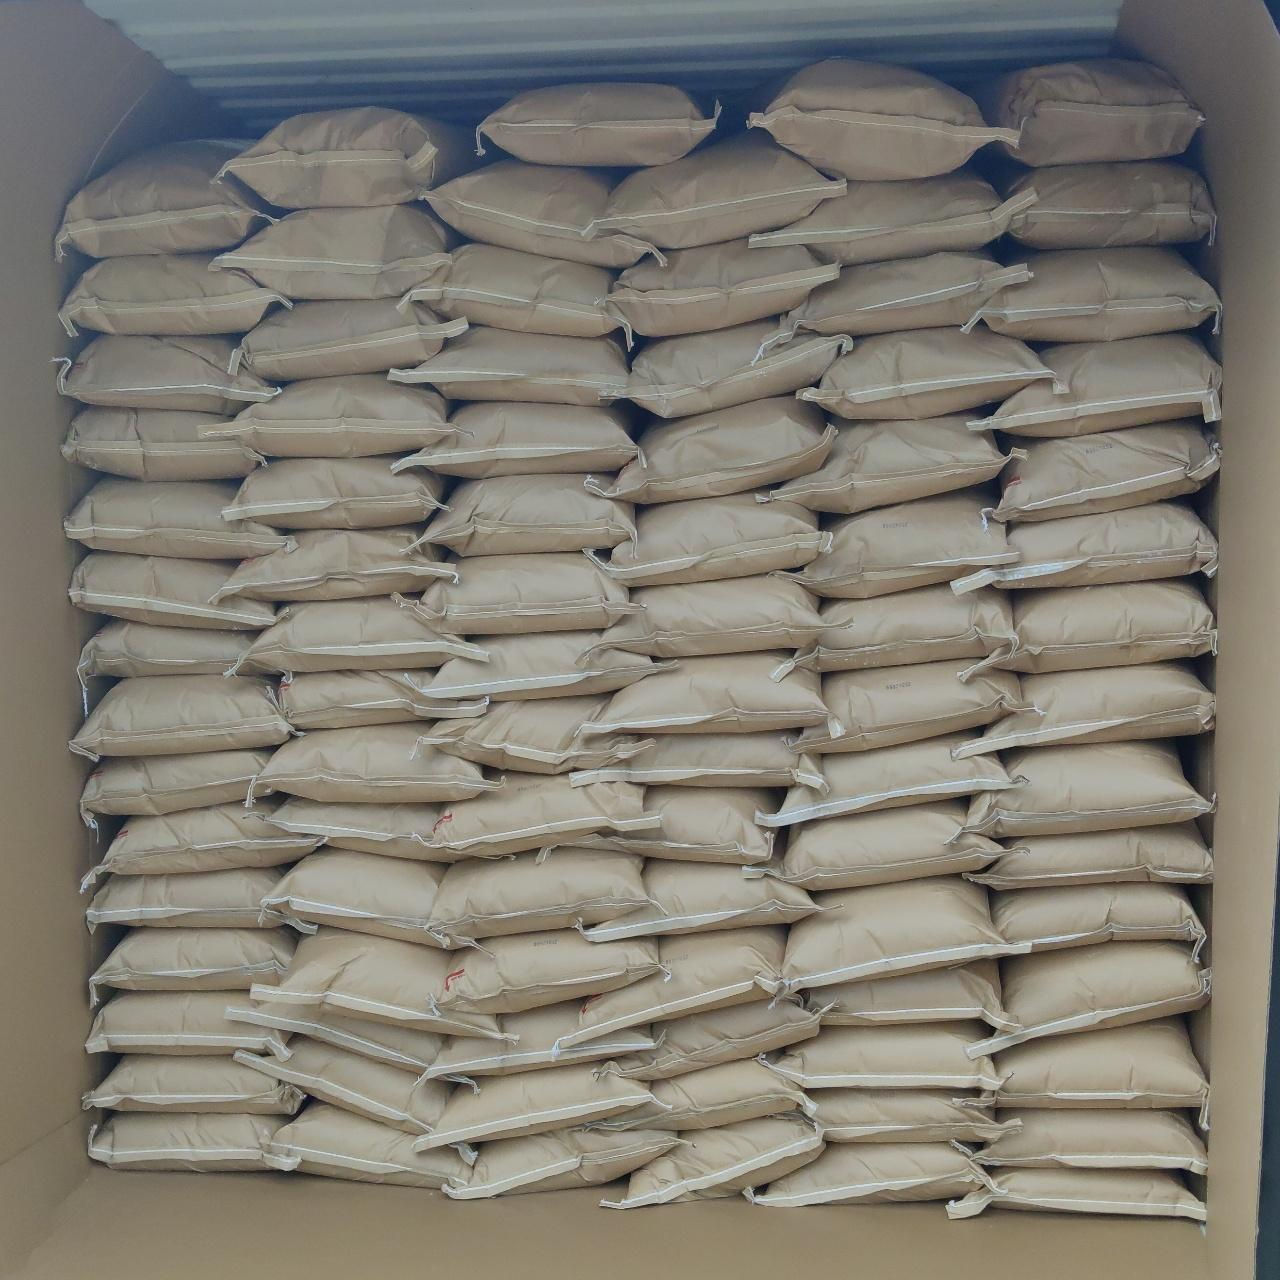sack: (750, 59, 1017, 181), (587, 129, 846, 248), (945, 1017, 1208, 1135), (554, 926, 787, 1058), (945, 740, 1212, 852), (782, 874, 1023, 995), (760, 251, 1030, 358), (968, 940, 1210, 1058), (215, 107, 478, 211), (749, 169, 1036, 264), (251, 927, 498, 1037), (585, 396, 835, 504), (959, 579, 1217, 682), (424, 159, 665, 270), (56, 139, 277, 258), (967, 334, 1221, 436), (757, 411, 1005, 515), (772, 583, 1030, 681), (972, 59, 1201, 166), (400, 244, 632, 350), (949, 502, 1217, 594), (956, 663, 1214, 758), (983, 418, 1219, 522), (964, 247, 1221, 341), (758, 733, 1013, 828), (799, 489, 1019, 598), (81, 796, 324, 893), (798, 326, 1053, 418), (742, 799, 1001, 890), (585, 492, 832, 586), (212, 204, 455, 298), (579, 572, 824, 665), (788, 660, 1032, 753), (624, 320, 852, 418), (607, 239, 838, 336), (414, 1063, 663, 1152), (581, 652, 828, 741), (229, 290, 467, 381), (263, 847, 478, 947), (246, 722, 501, 806), (200, 373, 451, 457), (602, 1114, 825, 1208), (232, 1039, 449, 1133), (390, 552, 636, 635), (477, 84, 720, 166), (433, 928, 668, 1013), (388, 324, 629, 406), (429, 847, 648, 938), (70, 675, 302, 760), (429, 772, 662, 856), (599, 995, 821, 1082), (64, 478, 298, 559), (587, 862, 818, 942), (420, 1002, 665, 1078), (59, 256, 292, 335), (237, 598, 488, 672), (212, 526, 455, 602), (409, 474, 634, 556), (392, 402, 636, 477), (418, 695, 651, 774), (1008, 161, 1214, 248), (53, 335, 277, 415), (69, 551, 294, 629), (421, 632, 680, 700), (267, 1102, 470, 1189), (990, 881, 1205, 962), (964, 821, 1212, 890), (442, 1126, 681, 1198), (760, 1020, 998, 1091), (742, 1139, 990, 1207), (568, 731, 829, 796), (951, 1110, 1207, 1175), (808, 960, 1023, 1036), (223, 457, 448, 529), (86, 865, 316, 934), (91, 928, 297, 1005), (602, 1056, 812, 1129), (227, 1005, 451, 1073), (81, 750, 272, 828), (62, 406, 259, 481), (947, 1167, 1206, 1223), (86, 992, 290, 1058), (88, 1111, 300, 1172), (79, 619, 261, 689), (83, 1056, 302, 1114), (275, 670, 485, 729), (619, 787, 775, 864), (808, 1088, 1021, 1142), (271, 798, 452, 860)
